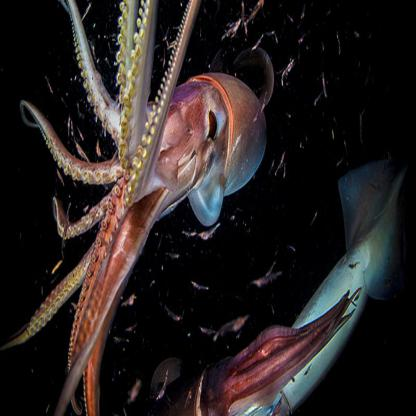colossal_squid: (13, 3, 281, 259), (197, 211, 412, 400)
